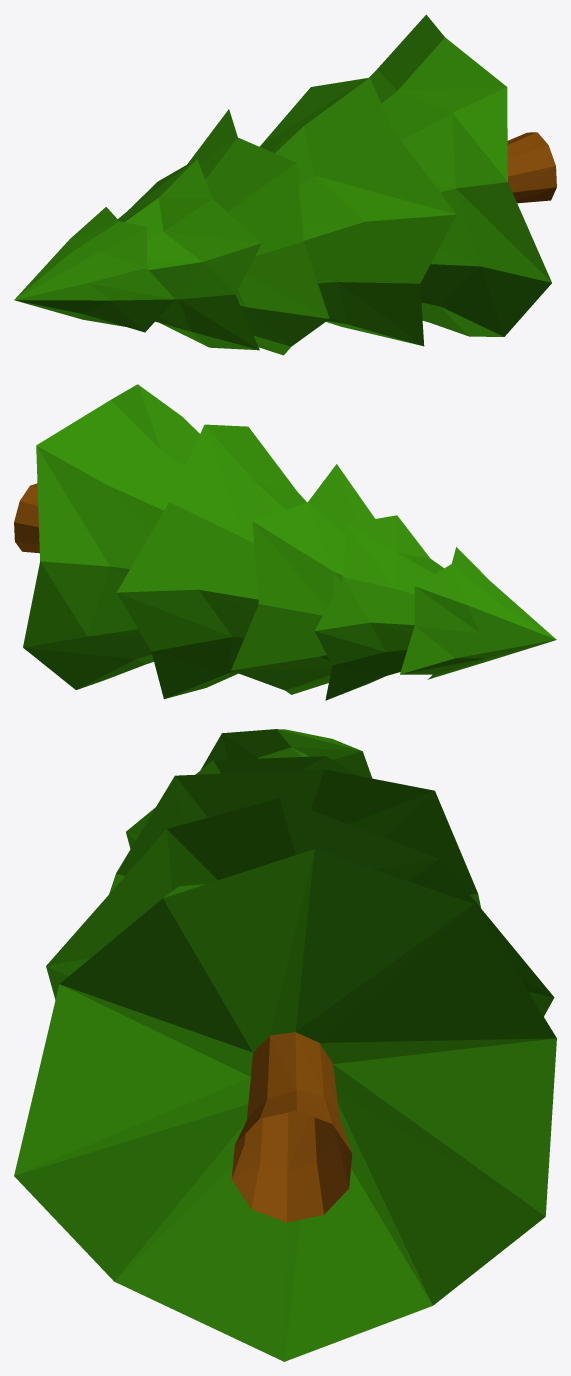
3 renders of one model, top to bottom at view 1: azimuth 30°, elevation 25°; view 2: azimuth 150°, elevation 25°; view 3: azimuth 270°, elevation 25°, orthographic. The views are drawn at different scales.
Visible parts, largest first — view 1: cassay; view 2: cassay; view 3: cassay.
Part boxes in pixels (left/top/right/bottom): cassay: left=14, top=14, right=556, bottom=355; cassay: left=14, top=384, right=556, bottom=700; cassay: left=14, top=729, right=556, bottom=1361.
Size of the model in its own units: 14.57 by 7.77 by 7.65.
